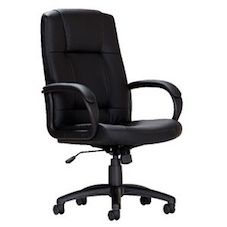chair: (8, 4, 179, 216)
